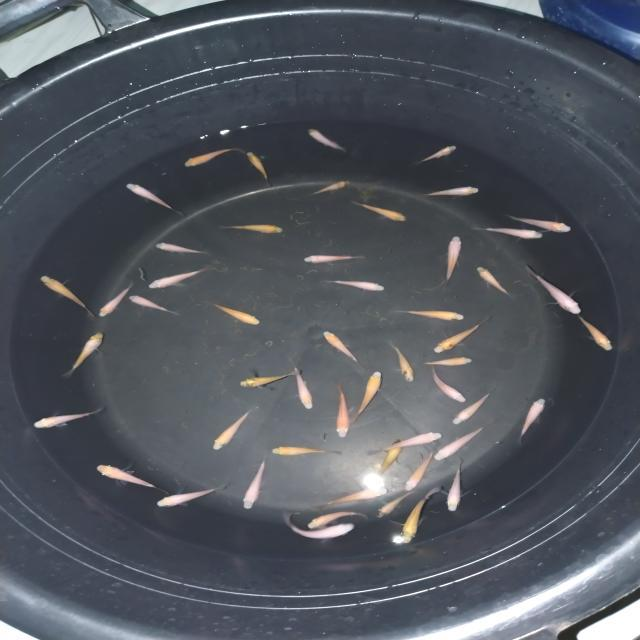nila: (524, 264, 584, 316), (34, 272, 95, 319), (394, 489, 442, 544), (122, 180, 188, 217), (153, 479, 226, 512), (366, 426, 444, 456), (434, 422, 491, 462), (212, 404, 260, 451), (30, 403, 109, 431), (64, 328, 108, 378), (280, 513, 358, 541), (431, 317, 486, 355), (96, 460, 160, 492), (204, 300, 266, 331), (318, 484, 391, 508), (403, 446, 441, 492), (426, 363, 469, 403), (320, 331, 366, 368), (239, 459, 271, 512), (450, 389, 497, 425), (180, 144, 240, 172), (96, 281, 136, 322), (144, 265, 211, 289), (516, 396, 550, 443), (575, 314, 617, 352), (289, 359, 318, 412), (352, 198, 410, 224), (354, 370, 384, 420), (506, 212, 574, 234), (298, 507, 367, 528), (474, 225, 552, 243), (218, 219, 287, 239), (444, 461, 471, 512), (125, 292, 176, 319), (374, 436, 404, 479), (374, 489, 418, 518), (476, 266, 513, 300), (233, 370, 294, 390), (304, 126, 347, 154), (332, 381, 353, 438), (442, 232, 464, 286), (244, 150, 274, 187), (391, 341, 418, 382), (399, 306, 467, 322), (154, 238, 211, 256), (325, 278, 387, 294), (422, 184, 483, 200), (310, 178, 356, 198), (268, 444, 337, 456), (420, 354, 482, 367), (420, 144, 460, 164), (301, 254, 363, 266)
